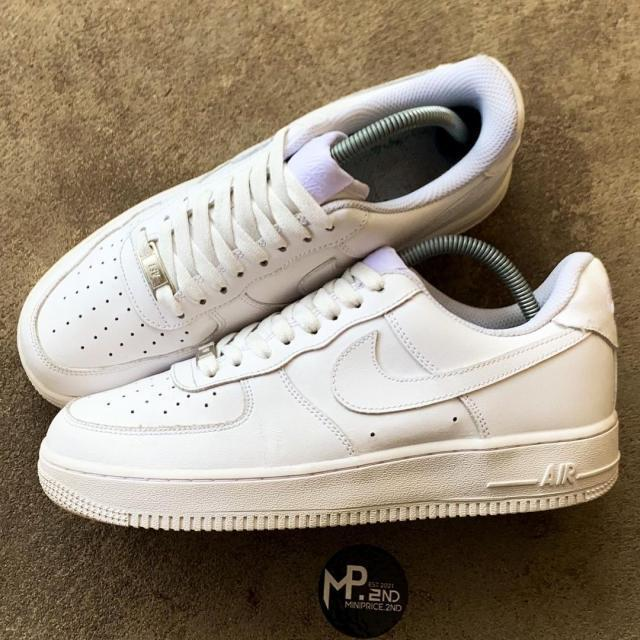nike original air force: (29, 233, 625, 536), (3, 62, 525, 394)
